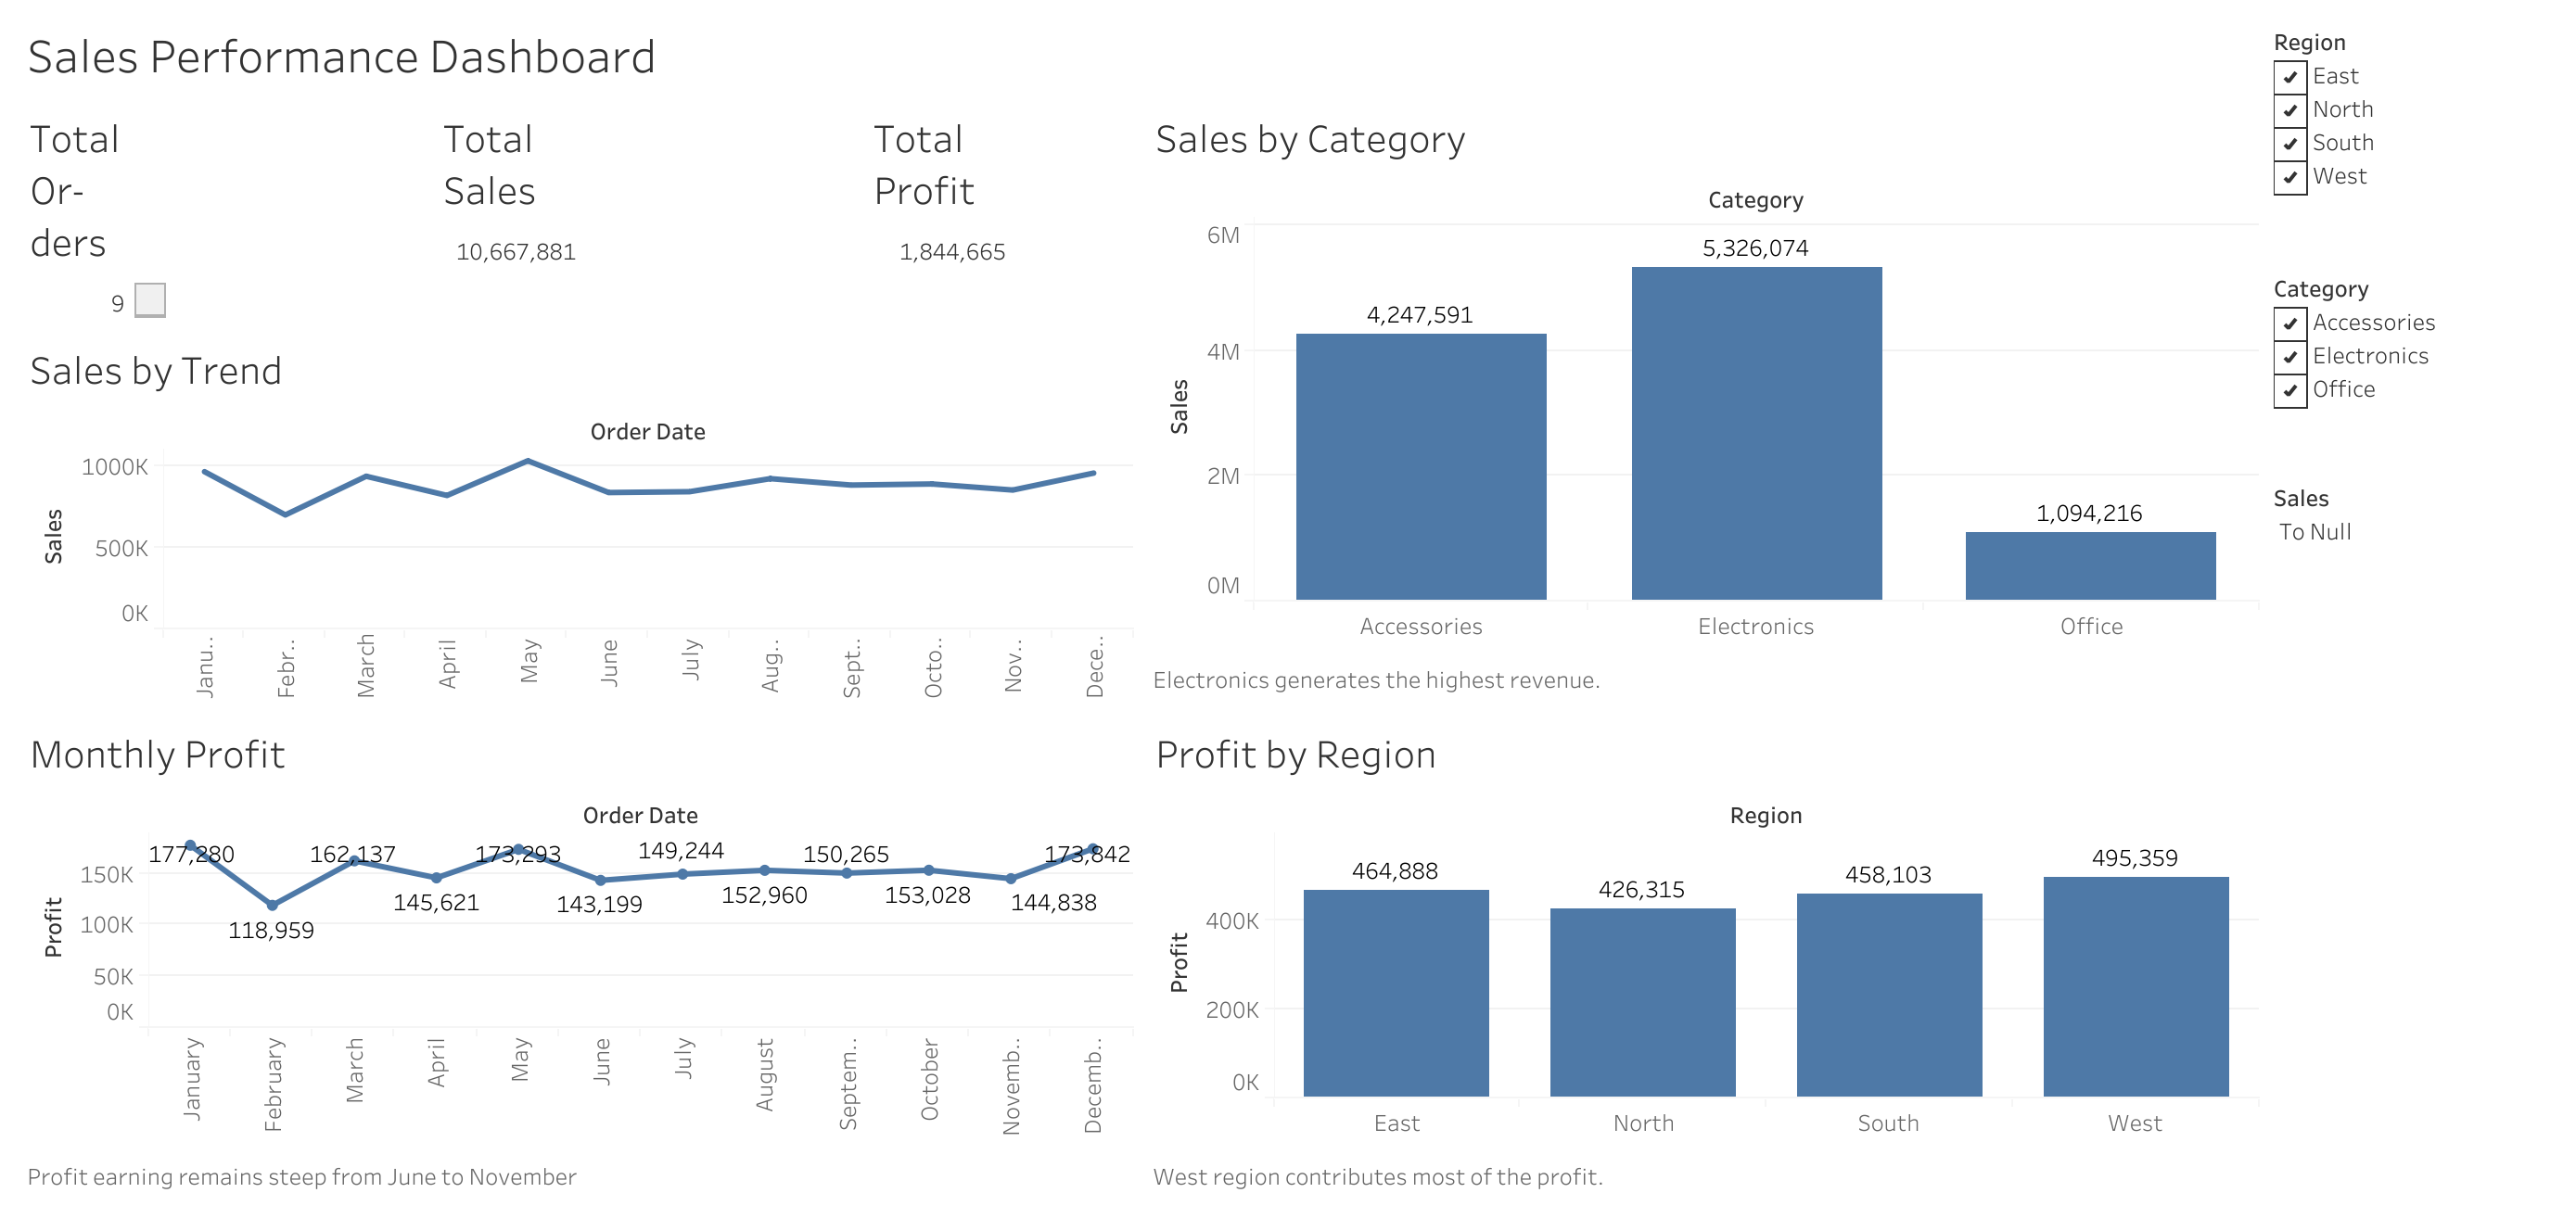

This screenshot's page, from the dashboard's own definition file:
{"tool":"tableau","page":{"name":"Sales Performance Dashboard","canvas":[1000,1000],"units":"permille","ordinal":0},"visuals":[{"type":"title","box":[9.2,13.7,797.5,72]},{"type":"filter","title":"Profit by Region","param":"[federated.144px8e0ryq50t14396er102ld0v].[none:Region:nk]","box":[806.7,13.7,184.1,217.8]},{"type":"worksheet","title":"Total Orders","mark":"Automatic","box":[9.2,85.8,146.6,187.8]},{"type":"worksheet","title":"Total Sales","mark":"Automatic","box":[155.8,85.8,152.5,187.8]},{"type":"worksheet","title":"Total Profit","mark":"Automatic","box":[308.2,85.8,99.7,187.8]},{"type":"worksheet","title":"Sales by Category","mark":"Automatic","rows":["Sales"],"cols":["Category"],"box":[407.9,85.8,398.7,451]},{"type":"filter","title":"Sales by Category","param":"[federated.144px8e0ryq50t14396er102ld0v].[none:Category:nk]","box":[806.7,231.6,184.1,185.2]},{"type":"worksheet","title":"Sales by Trend","mark":"Automatic","rows":["Sales"],"cols":["Order Date"],"box":[9.2,273.6,398.7,310.2]},{"type":"filter","title":"Sales by Category","param":"[federated.144px8e0ryq50t14396er102ld0v].[sum:Sales:qk]","box":[806.7,416.8,184.1,118.4]},{"type":"text","box":[407.9,536.8,398.7,47.3]},{"type":"worksheet","title":"Monthly Profit","mark":"Automatic","rows":["Profit"],"cols":["Order Date"],"box":[9.2,583.7,398.7,355.2]},{"type":"worksheet","title":"Profit by Region","mark":"Automatic","rows":["Profit"],"cols":["Region"],"box":[407.9,584.1,398.7,354.9]},{"type":"text","box":[9.2,939,398.7,47.3]},{"type":"text","box":[407.9,939,398.7,47.3]}]}

Visuals, with their boxes on the dashboard's canvas, which has no fixed pixel size, in thousandths of its width and height (x1, y1, x2, y2). These are canvas units, not pixel positions in the 2576x1218 screenshot, which may show the page scaled, cropped or inside an application window:
title: x1=9 y1=14 x2=807 y2=86
"Profit by Region" filter: x1=807 y1=14 x2=991 y2=232
"Total Orders" worksheet: x1=9 y1=86 x2=156 y2=274
"Total Sales" worksheet: x1=156 y1=86 x2=308 y2=274
"Total Profit" worksheet: x1=308 y1=86 x2=408 y2=274
"Sales by Category" worksheet: x1=408 y1=86 x2=807 y2=537
"Sales by Category" filter: x1=807 y1=232 x2=991 y2=417
"Sales by Trend" worksheet: x1=9 y1=274 x2=408 y2=584
"Sales by Category" filter: x1=807 y1=417 x2=991 y2=535
text: x1=408 y1=537 x2=807 y2=584
"Monthly Profit" worksheet: x1=9 y1=584 x2=408 y2=939
"Profit by Region" worksheet: x1=408 y1=584 x2=807 y2=939
text: x1=9 y1=939 x2=408 y2=986
text: x1=408 y1=939 x2=807 y2=986
